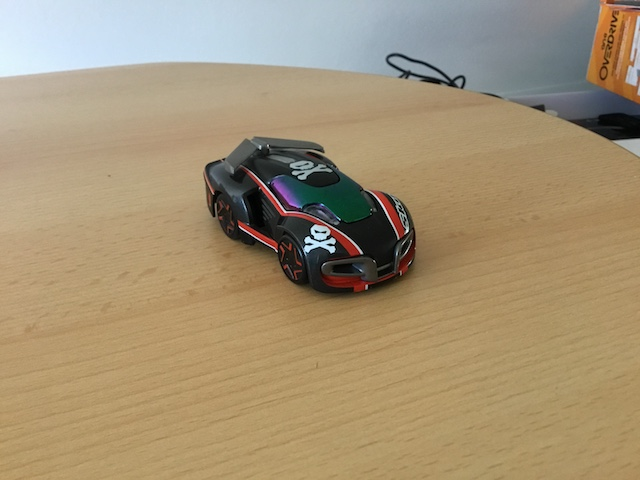car-red: (199, 130, 419, 298)
